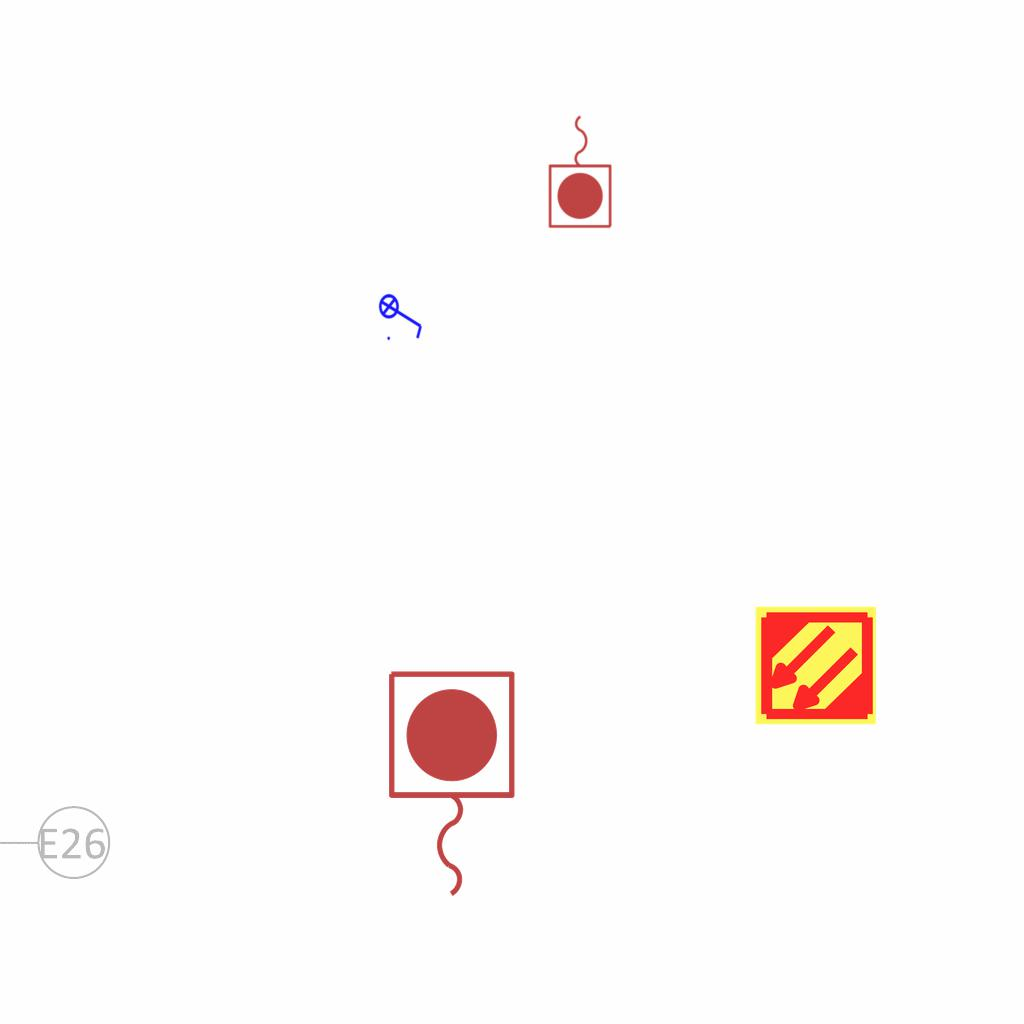ASR_Ansaugrauchmelder: (753, 603, 878, 728)
Ausschalter_beleuchtet: (378, 287, 426, 343)
Zugtaster: (378, 663, 522, 907), (545, 110, 617, 232)
